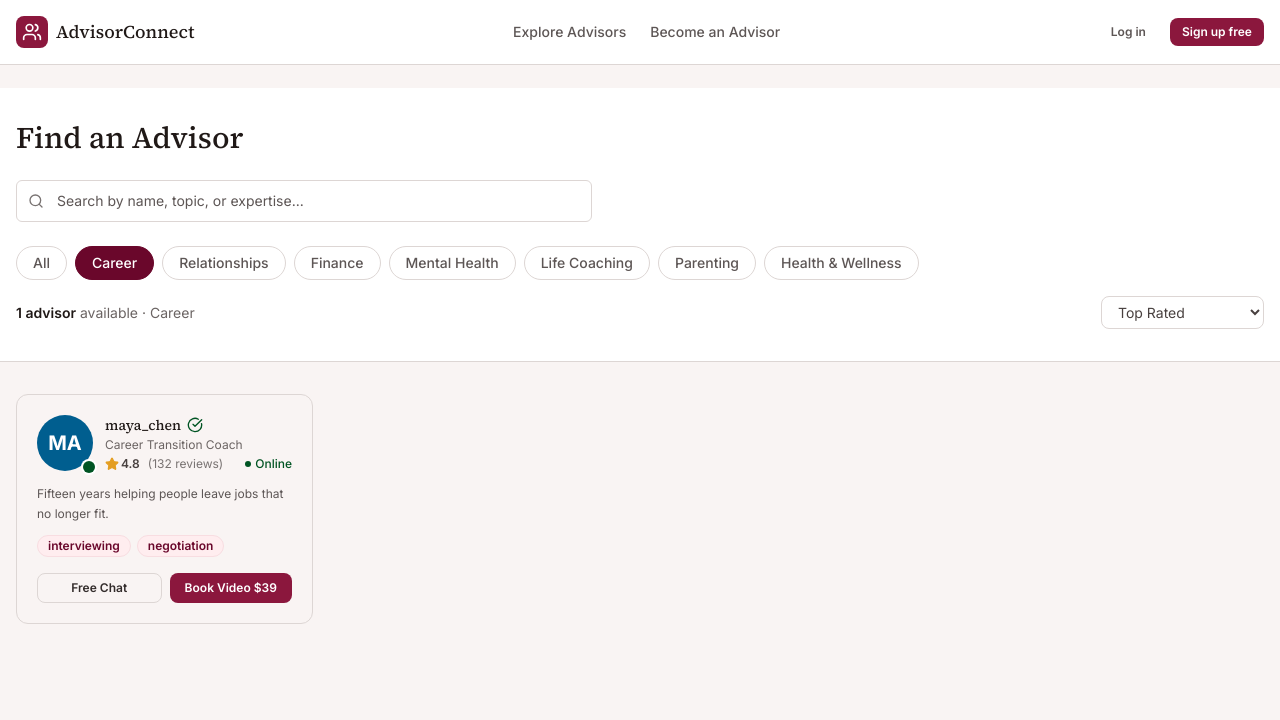
Test case: ExplorePage › category pills › clears the filter when "All" is chosen
The width and height of the screenshot is (1280, 720).
Expected: the text "maya_chen" is shown, [105,415,181,435]
Click the button "All" at coordinates (42, 263), box [16,246,67,280]
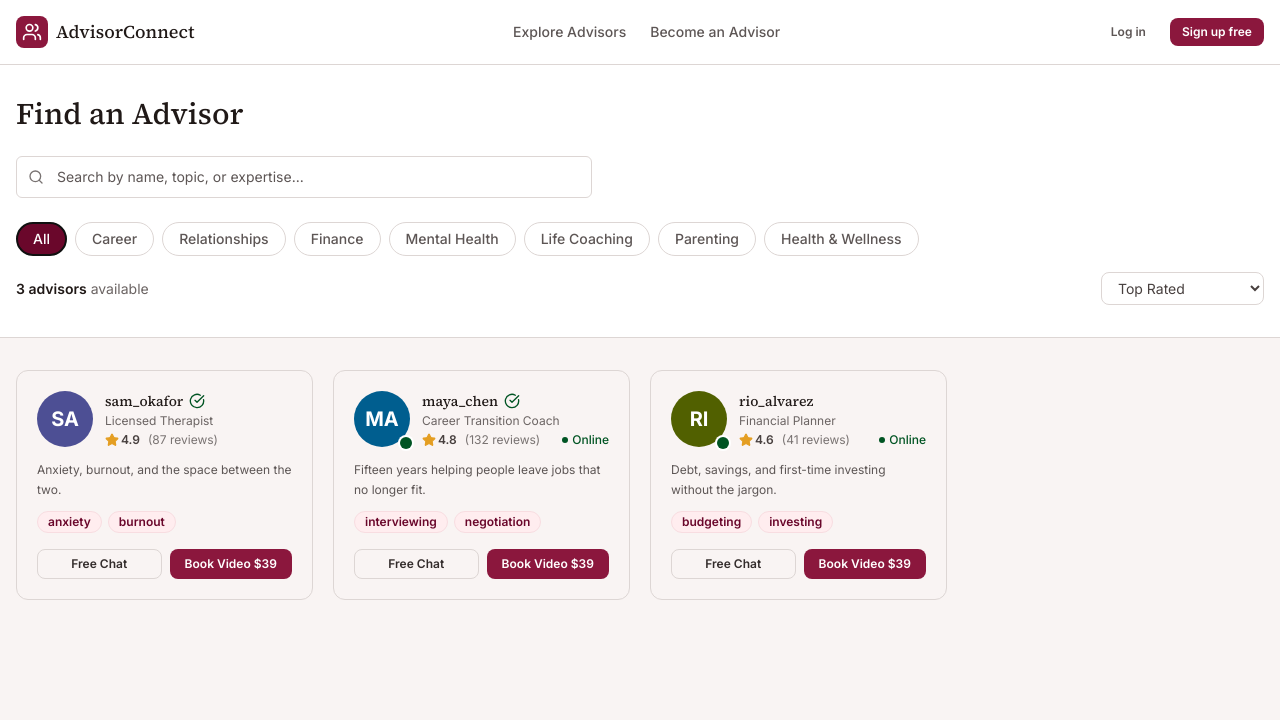
Result: the text "sam_okafor" is shown at [105,391,183,411]
